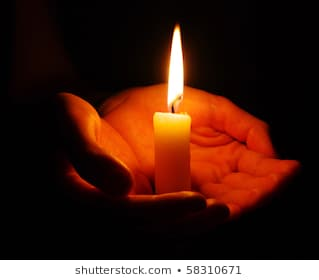Fire: (165, 19, 187, 111)
